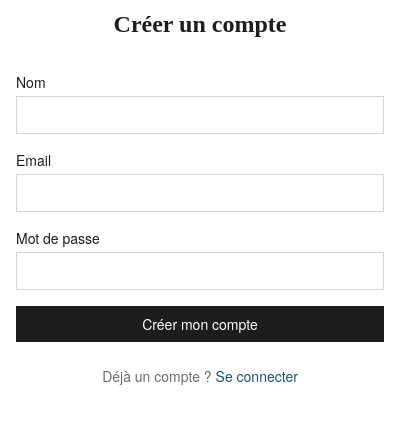
Test case: SignUpPage — email déjà utilisé (409) › affiche "Un compte existe déjà avec cet email"
Type "Alice Dupont" into the field labelled "Nom".
click(200, 115); type("Alice Dupont")  # box [16,96,384,134]
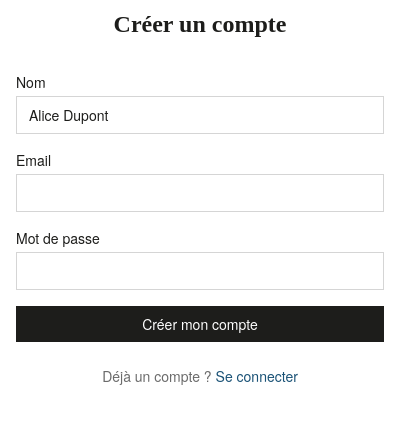
Type "existing@example.com" into the field labelled "Email".
click(200, 193); type("existing@example.com")  # box [16,174,384,212]
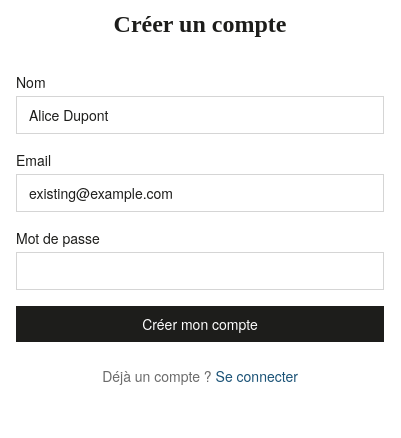
Type "secret123" into the password field labelled "Mot de passe".
click(200, 271); type("secret123")  # box [16,252,384,290]
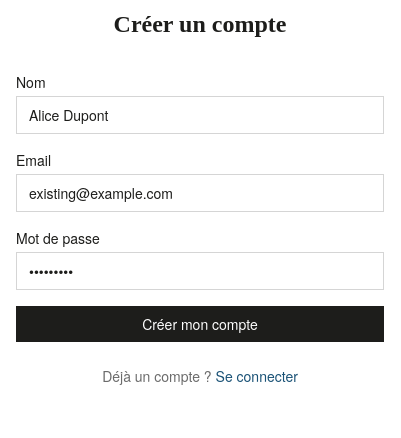
Click the button "Créer mon compte".
click(200, 324)  # box [16,306,384,342]
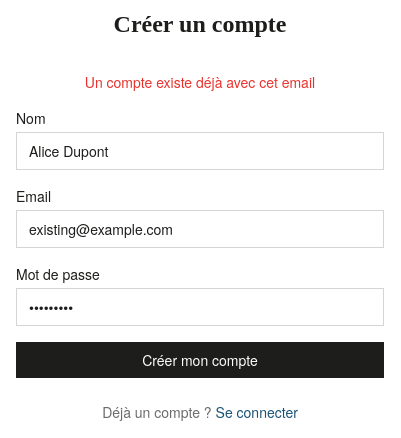
Result: the text "Un compte existe déjà avec cet email" is shown at [85,72,315,92]
